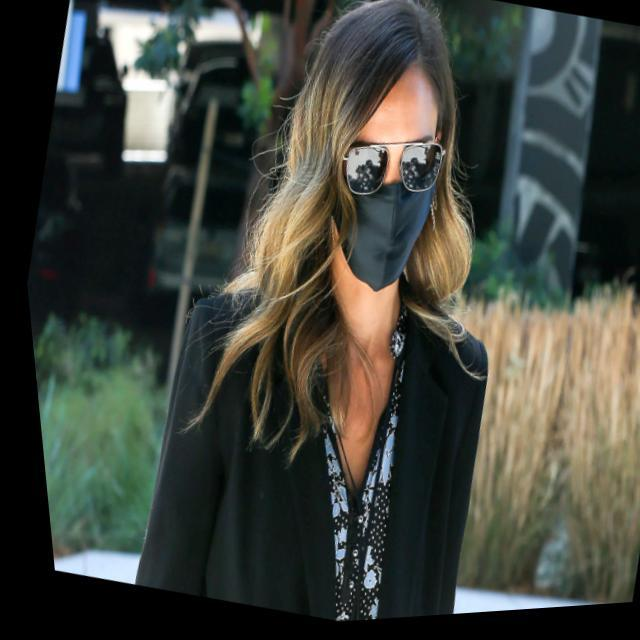Nonhelmet: (274, 0, 490, 319)
